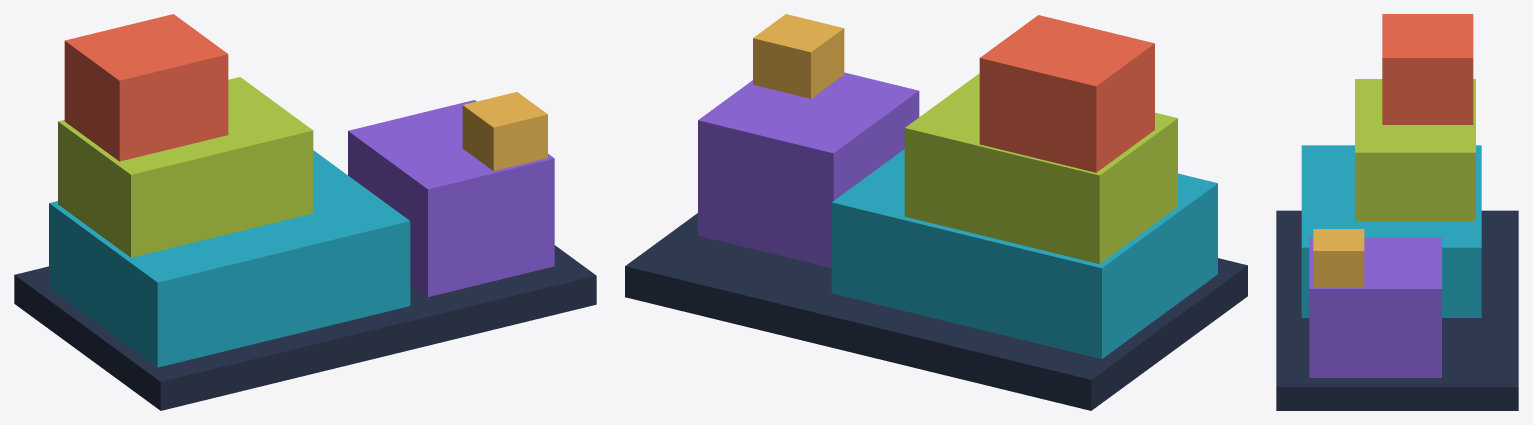
Rendered from Spacebar3D-Review-Model.glb.
3 views of the same model, side by side, from view 1: azimuth 30°, elevation 25°; view 2: azimuth 150°, elevation 25°; view 3: azimuth 270°, elevation 25° (orthographic). The views are drawn at different scales.
Parts seen in each view (by area): view 1: Color Steps, Gold front key; view 2: Color Steps, Gold front key; view 3: Color Steps, Gold front key.
Part boxes in pixels (x1,y1,x2,y2): Color Steps: (14,14,596,410); Gold front key: (462,92,547,170); Color Steps: (625,15,1247,410); Gold front key: (753,14,844,98); Color Steps: (1276,14,1518,410); Gold front key: (1313,229,1364,286).
Size of the model in its own units: 4.4 by 2.68 by 2.56.
